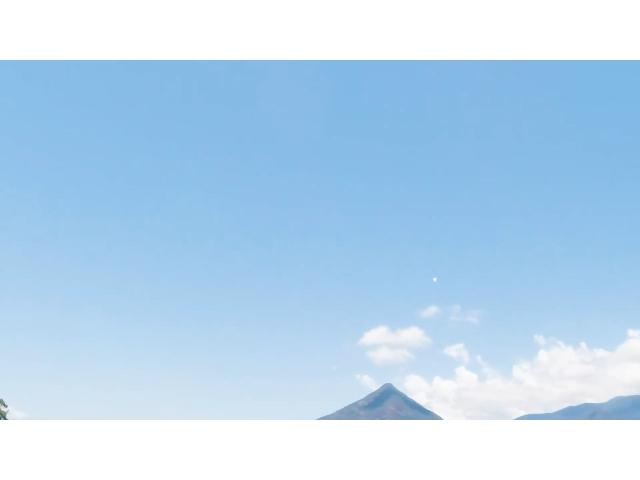Anti-Drone: (426, 272, 446, 289)
